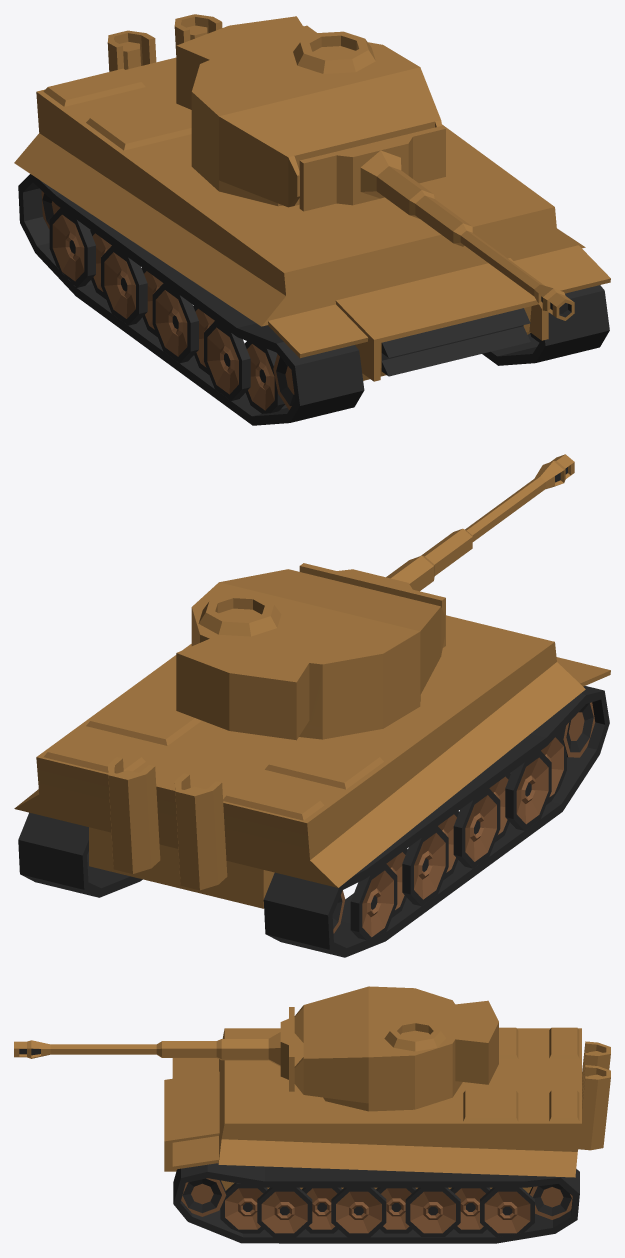
File: tiger.glb
The picture shows the model from 3 angles, top to bottom: view 1: azimuth 30°, elevation 25°; view 2: azimuth 150°, elevation 25°; view 3: azimuth 270°, elevation 25°; orthographic projection. The views are drawn at different scales.
Visible parts, largest first — view 1: tiger-body, tiger-head, tiger-belt, tiger-cannon, tiger-wheel3, tiger-wheel5, tiger-wheel7, tiger-wheel9, tiger-wheel2, tiger-wheel1, tiger-wheel6; view 2: tiger-body, tiger-head, tiger-belt, tiger-cannon, tiger-wheel5, tiger-wheel3, tiger-wheel7, tiger-wheel9, tiger-wheel1, tiger-wheel2; view 3: tiger-body, tiger-head, tiger-belt, tiger-cannon, tiger-wheel5, tiger-wheel3, tiger-wheel7, tiger-wheel9, tiger-wheel2, tiger-wheel1, tiger-wheel4, tiger-wheel8 (+2 smaller).
Part boxes in pixels (<box>): tiger-body: <box>14,14,610,381</box>; tiger-head: <box>176,16,442,207</box>; tiger-belt: <box>18,174,609,425</box>; tiger-cannon: <box>299,126,574,320</box>; tiger-wheel3: <box>204,321,250,400</box>; tiger-wheel5: <box>152,283,198,363</box>; tiger-wheel7: <box>101,245,147,325</box>; tiger-wheel9: <box>49,208,95,287</box>; tiger-wheel2: <box>244,333,540,413</box>; tiger-wheel1: <box>273,354,295,409</box>; tiger-wheel6: <box>141,267,163,336</box>; tiger-body: <box>14,615,610,908</box>; tiger-head: <box>176,569,444,740</box>; tiger-belt: <box>18,686,609,957</box>; tiger-cannon: <box>299,454,574,647</box>; tiger-wheel5: <box>453,788,500,868</box>; tiger-wheel3: <box>505,751,551,830</box>; tiger-wheel7: <box>402,826,448,906</box>; tiger-wheel9: <box>350,864,397,939</box>; tiger-wheel1: <box>559,702,595,757</box>; tiger-wheel2: <box>541,733,566,804</box>; tiger-body: <box>164,1027,610,1193</box>; tiger-head: <box>294,986,498,1111</box>; tiger-belt: <box>173,1163,579,1243</box>; tiger-cannon: <box>14,1007,294,1091</box>; tiger-wheel5: <box>331,1187,386,1237</box>; tiger-wheel3: <box>257,1187,312,1237</box>; tiger-wheel7: <box>405,1187,460,1236</box>; tiger-wheel9: <box>480,1187,534,1236</box>; tiger-wheel2: <box>220,1183,267,1233</box>; tiger-wheel1: <box>181,1178,226,1216</box>; tiger-wheel4: <box>301,1187,342,1233</box>; tiger-wheel8: <box>450,1187,490,1233</box>.
Size of the model in its own units: 3.83 by 2.73 by 8.47.
Materials: 1 (1 with a texture image).
